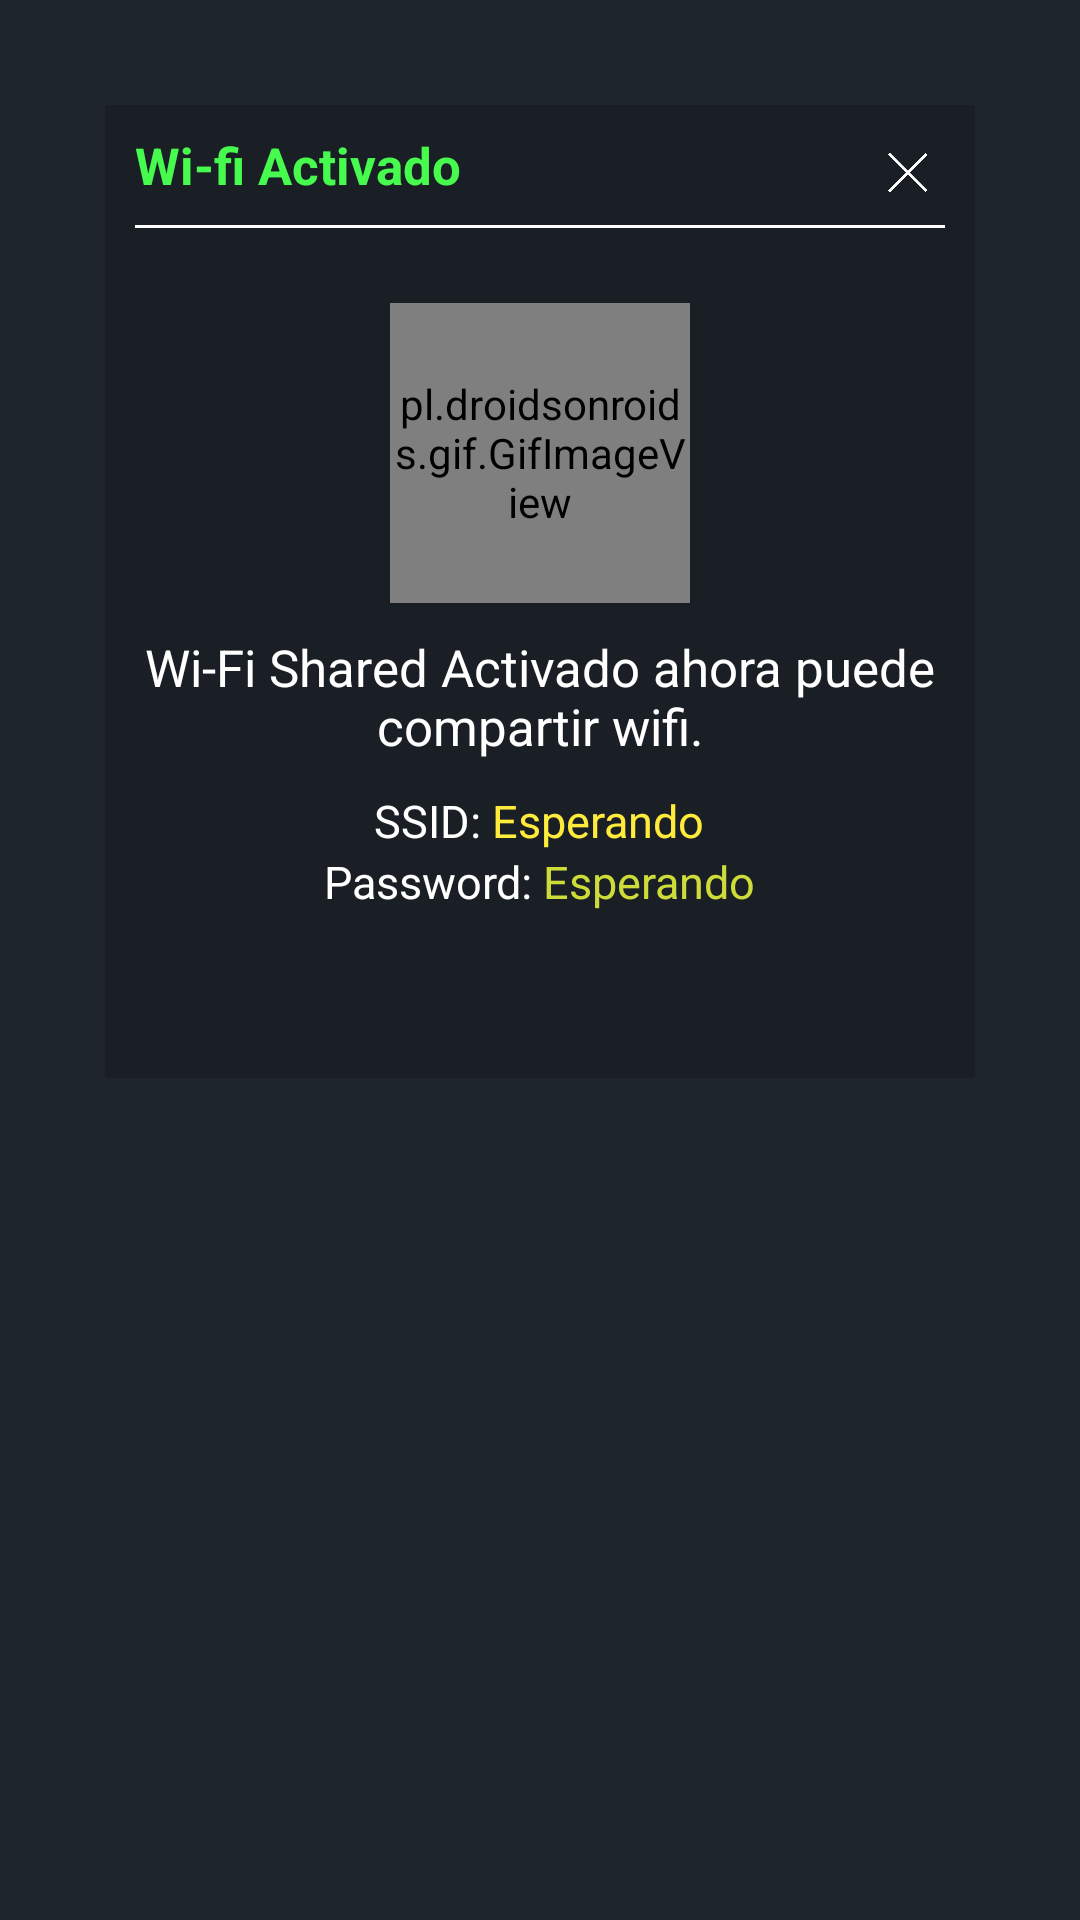

Icon click points for this 1080 x 1920 phone screenshot, format [x,y]:
salir: [907,172]
